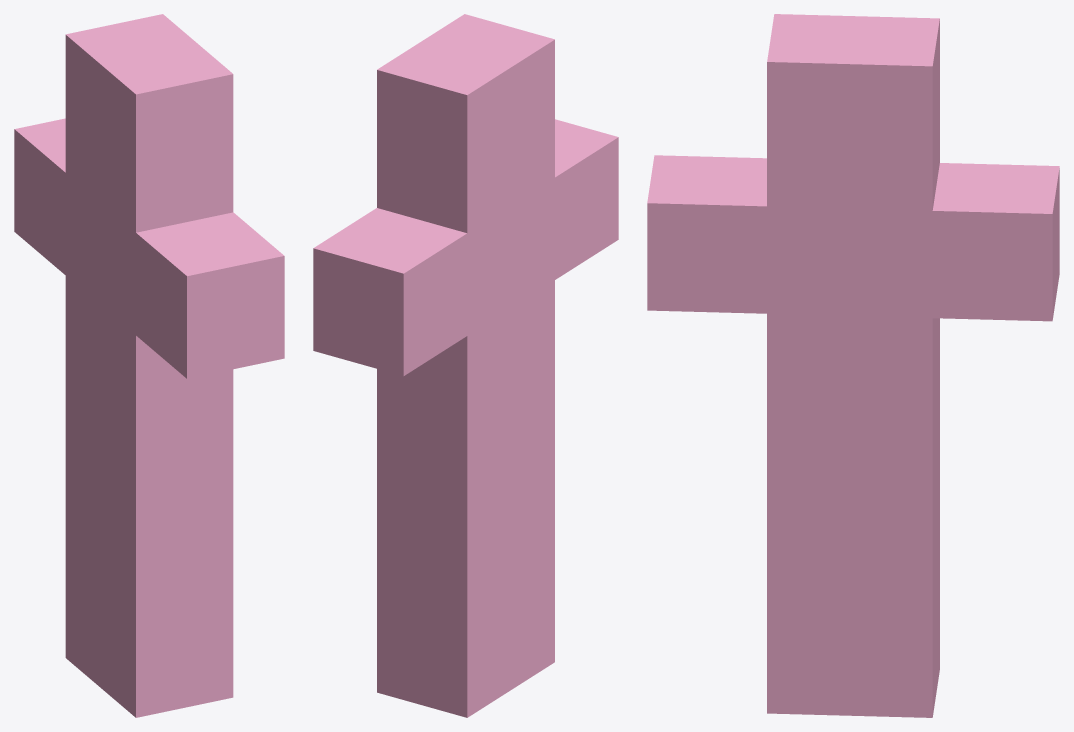
File: Cross02.fbx
The picture shows the model from 3 angles, left to right: view 1: azimuth 30°, elevation 25°; view 2: azimuth 150°, elevation 25°; view 3: azimuth 270°, elevation 25°; orthographic projection. The views are drawn at different scales.
Visible parts, largest first — view 1: Cross001; view 2: Cross001; view 3: Cross001.
Boxes of the visible parts, x1,y1,x2,y2 form: Cross001: [14, 14, 284, 717]; Cross001: [313, 14, 618, 717]; Cross001: [647, 14, 1059, 717].
Size of the model in its own units: 13.2 by 68.19 by 39.12.
